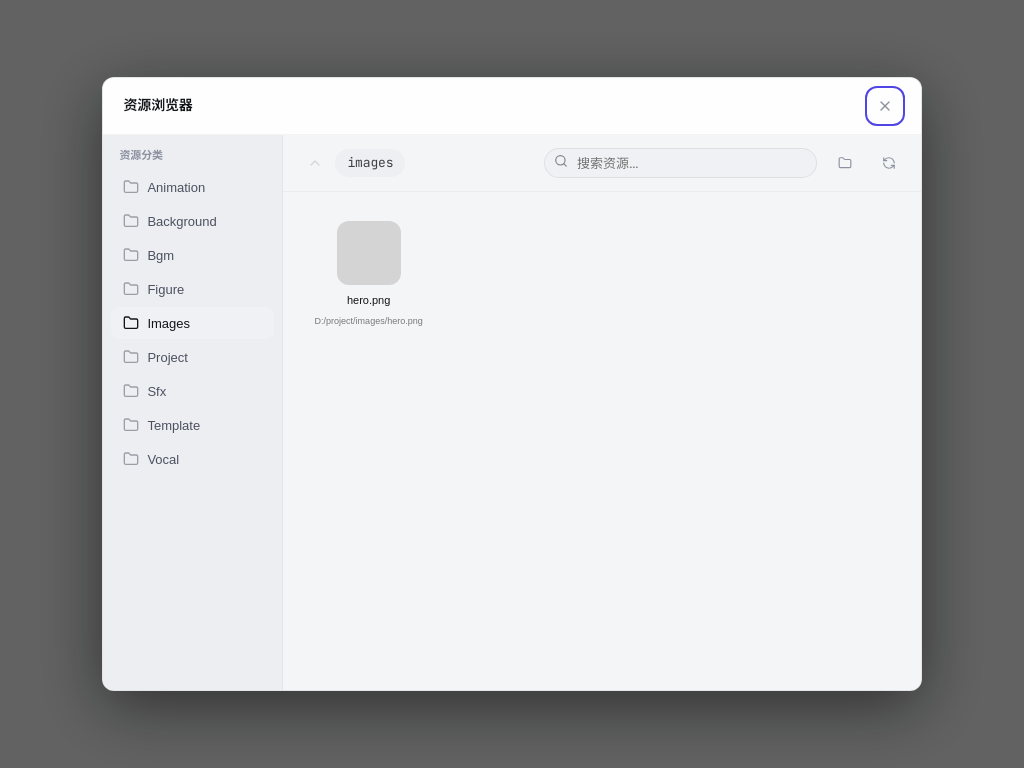
Test case: Resource entry points › does not select a raw browser path when the resource service is unavailable
Click the button "hero.png D:/project/images/hero.png" at (369, 274), box [299, 208, 439, 341]
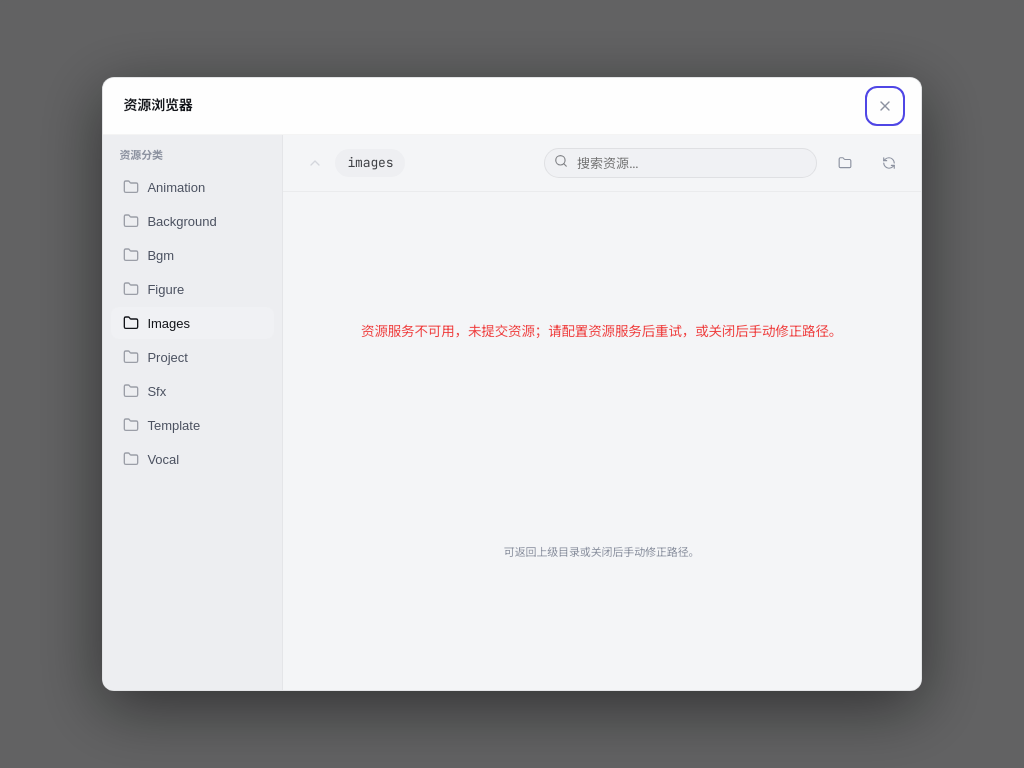
Expected: the message shows "资源服务不可用", [361, 322, 842, 340]
